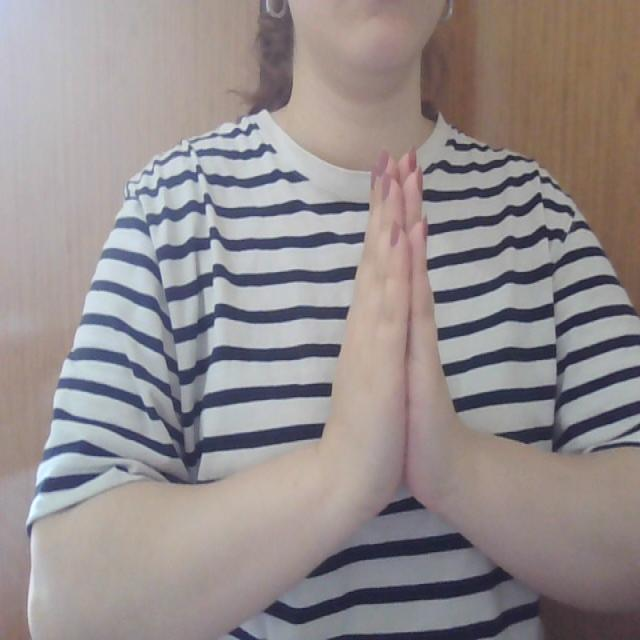Ozur-Dilemek: (324, 141, 480, 540)
